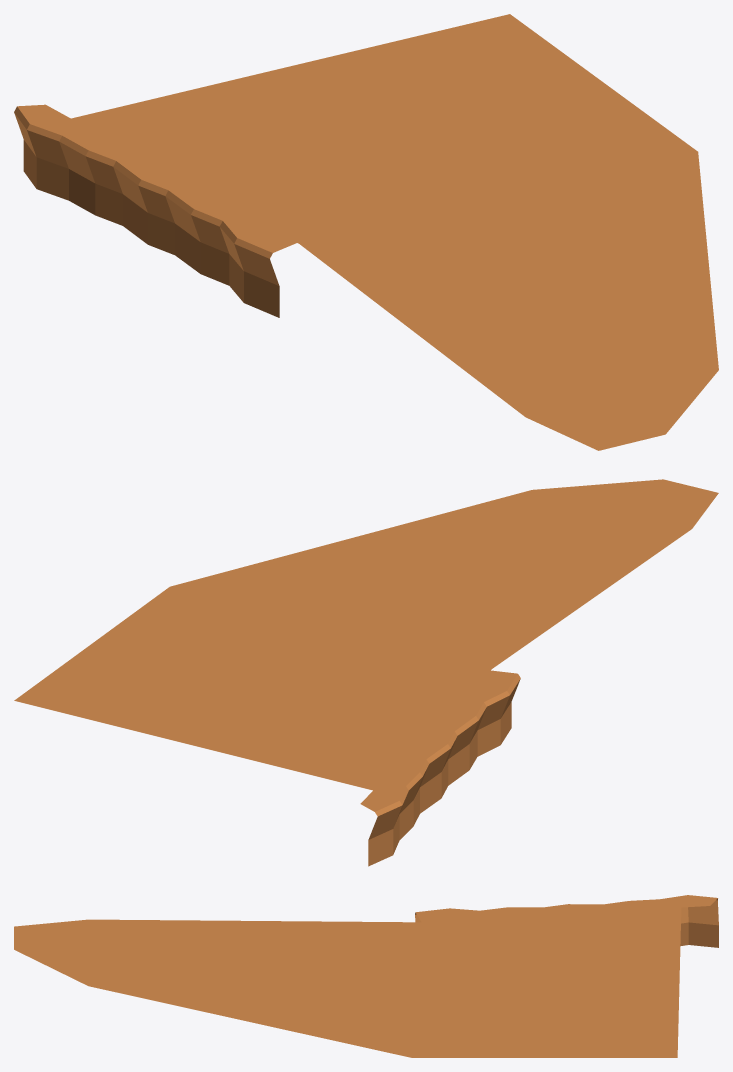
The model's file is Collider_ground5.fbx.
3 views of the same model, one above another, from view 1: azimuth 30°, elevation 25°; view 2: azimuth 150°, elevation 25°; view 3: azimuth 270°, elevation 25° (orthographic). The views are drawn at different scales.
Visible parts, largest first — view 1: 平面.051; view 2: 平面.051; view 3: 平面.051.
Part boxes in pixels (box(x1,y1,x2,y2)): 平面.051: box(14, 14, 718, 450); 平面.051: box(14, 479, 718, 866); 平面.051: box(14, 895, 718, 1057).
Bounding box in the file's own units: 4211 × 7646 × 568.
